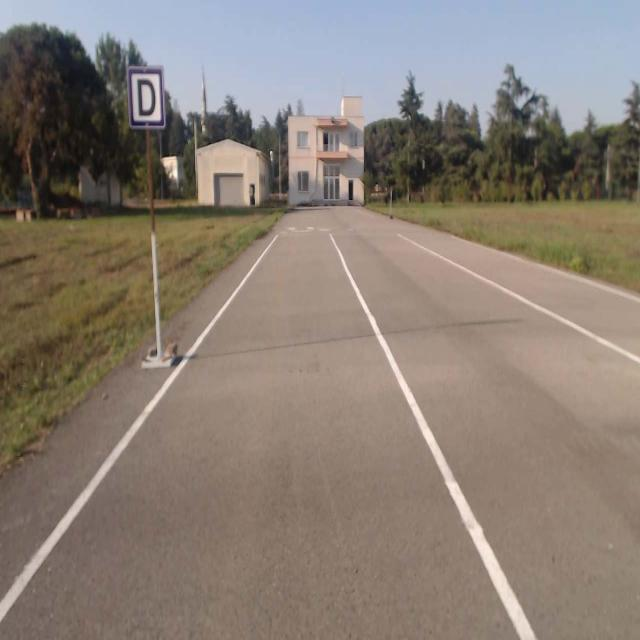durak: (128, 68, 162, 128)
